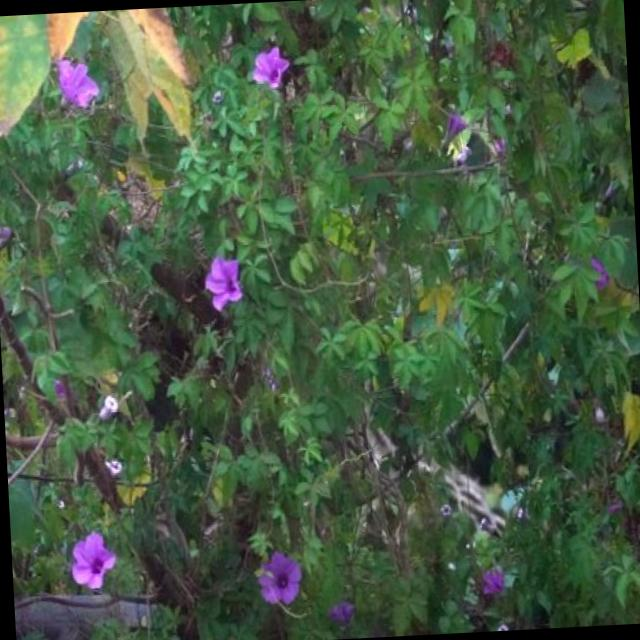ipomoea: (65, 526, 122, 596), (251, 546, 307, 612), (50, 52, 104, 118), (198, 250, 250, 318), (247, 42, 296, 98)
